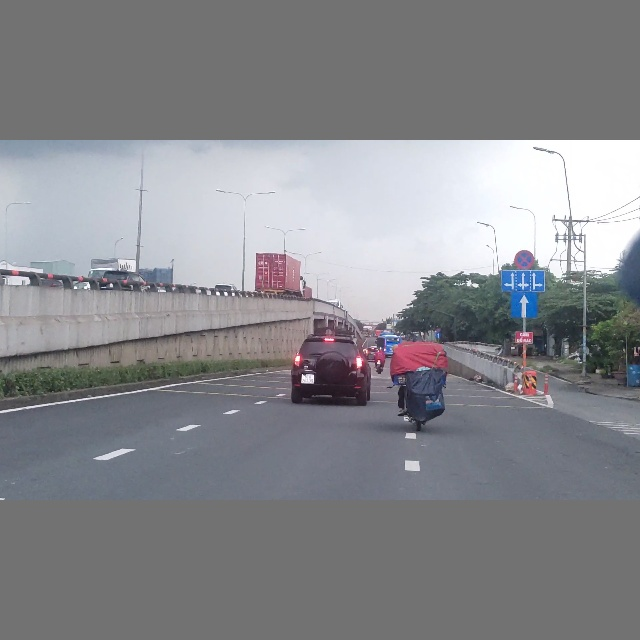I.407a: (510, 291, 539, 319)
P.130: (513, 250, 536, 270)
